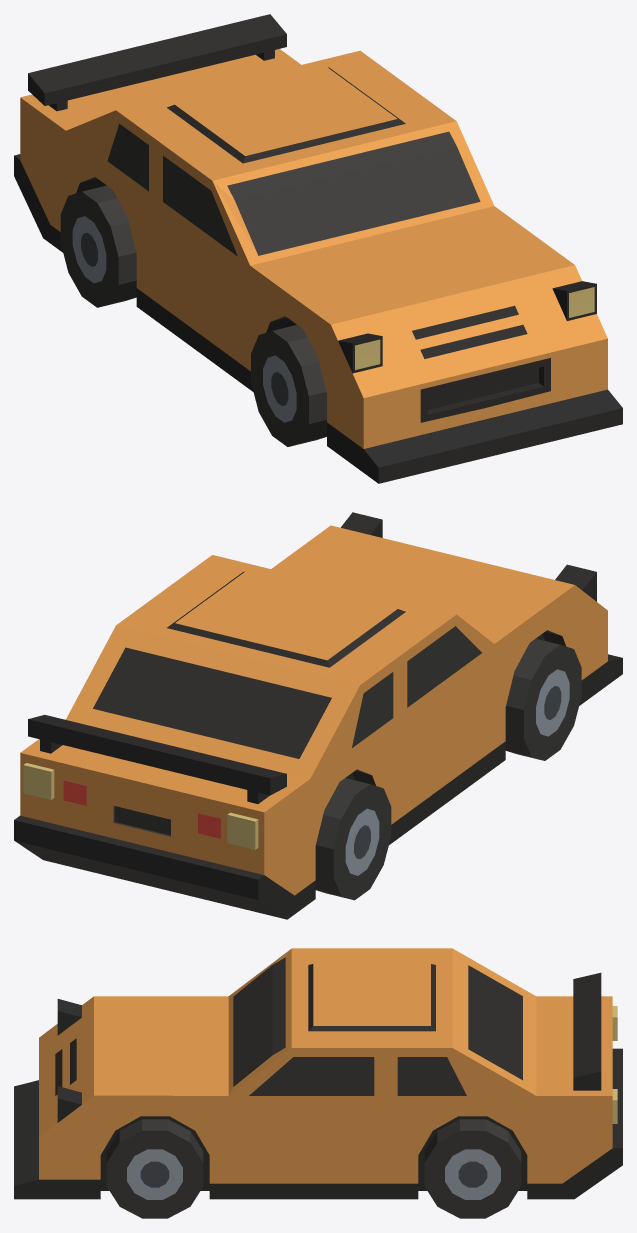
The model's file is Car_01.FBX.
3 renders of one model, top to bottom at view 1: azimuth 30°, elevation 25°; view 2: azimuth 150°, elevation 25°; view 3: azimuth 270°, elevation 25°, orthographic. The views are drawn at different scales.
Visible parts, largest first — view 1: Car_01, BR, FR; view 2: Car_01, FR, BR; view 3: Car_01, FL, BL.
Part boxes in pixels (x1,y1,x2,y2): Car_01: (14,14,622,483); BR: (60,185,136,307); FR: (251,325,326,446); Car_01: (14,512,622,919); FR: (505,638,581,760); BR: (315,778,391,900); Car_01: (14,948,622,1199); FL: (106,1119,203,1218); BL: (424,1119,521,1218).
Size of the model in its own units: 208 by 147 by 482.
